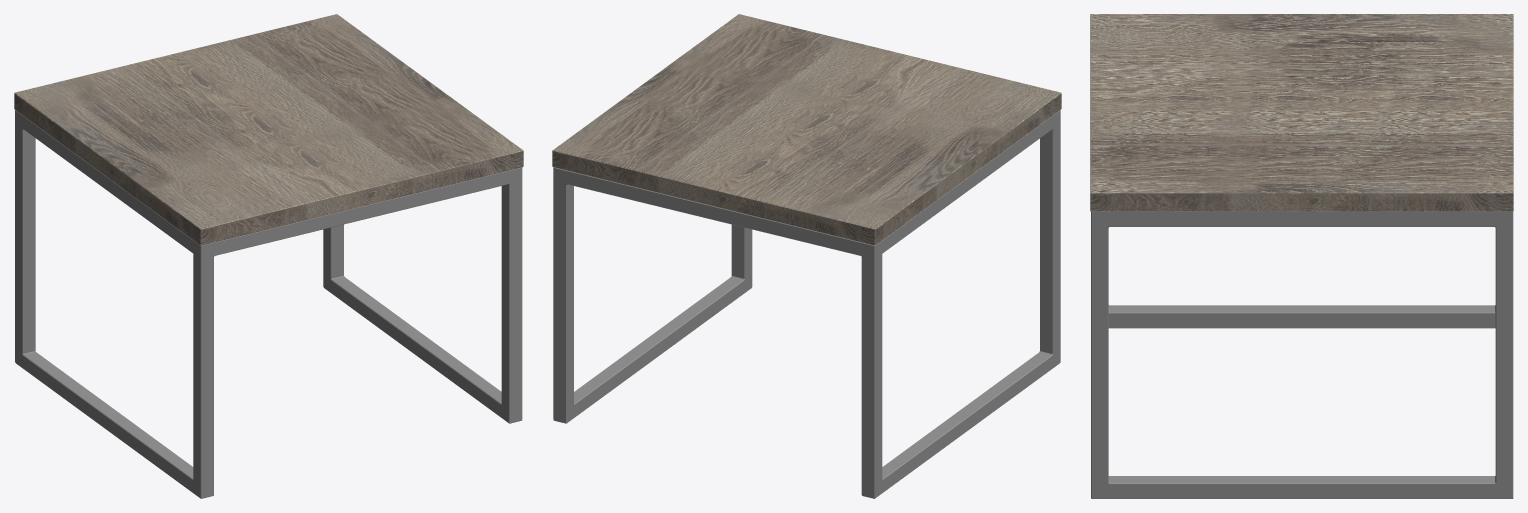
Rendered from Table 2.FBX.
3 views of the same model, side by side, from view 1: azimuth 30°, elevation 25°; view 2: azimuth 150°, elevation 25°; view 3: azimuth 270°, elevation 25° (orthographic). The views are drawn at different scales.
Parts seen in each view (by area): view 1: Table 2; view 2: Table 2; view 3: Table 2.
Boxes of the visible parts, x1,y1,x2,y2 form: Table 2: (14, 14, 523, 498); Table 2: (552, 14, 1061, 498); Table 2: (1090, 14, 1513, 498).
Size of the model in its own units: 57.99 by 46.38 by 57.99.
Materials: 2 (1 with a texture image).
